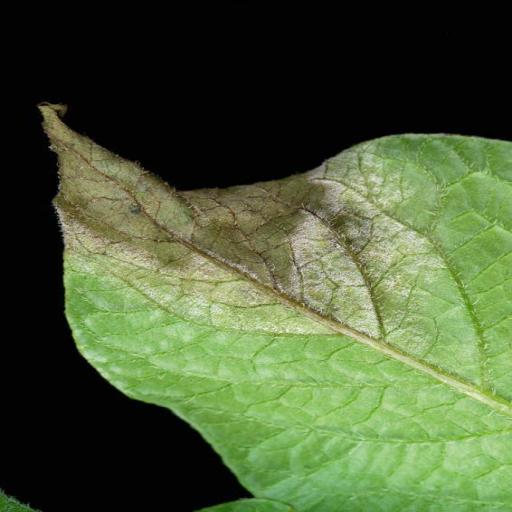disease_tomato: (34, 99, 512, 512)
